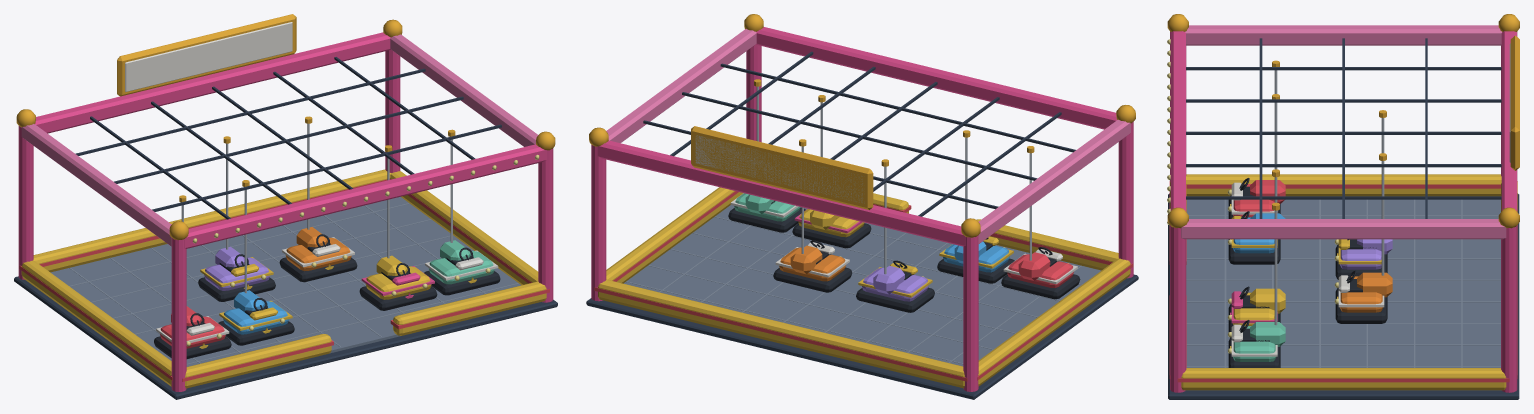
File: park-bumper.glb
3 renders of one model, left to right at view 1: azimuth 30°, elevation 25°; view 2: azimuth 150°, elevation 25°; view 3: azimuth 270°, elevation 25°, orthographic. The views are drawn at different scales.
Visible parts, largest first — view 1: pk_bumper_mesh, pk_bumper_car2_mesh, pk_bumper_car5_mesh, pk_bumper_car1_mesh, pk_bumper_car3_mesh, pk_bumper_car4_mesh, pk_bumper_car0_mesh; view 2: pk_bumper_mesh, pk_bumper_car4_mesh, pk_bumper_car0_mesh, pk_bumper_car5_mesh, pk_bumper_car1_mesh, pk_bumper_car2_mesh, pk_bumper_car3_mesh; view 3: pk_bumper_mesh, pk_bumper_car5_mesh, pk_bumper_car3_mesh, pk_bumper_car4_mesh, pk_bumper_car2_mesh, pk_bumper_car1_mesh, pk_bumper_car0_mesh.
Part boxes in pixels (box(x1,y1,x2,y2)): pk_bumper_mesh: box(14, 14, 557, 399); pk_bumper_car2_mesh: box(359, 145, 437, 310); pk_bumper_car5_mesh: box(279, 116, 357, 282); pk_bumper_car1_mesh: box(218, 180, 294, 345); pk_bumper_car3_mesh: box(424, 129, 500, 295); pk_bumper_car4_mesh: box(198, 136, 275, 301); pk_bumper_car0_mesh: box(154, 195, 231, 358); pk_bumper_mesh: box(586, 14, 1138, 399); pk_bumper_car4_mesh: box(856, 159, 934, 312); pk_bumper_car0_mesh: box(1001, 146, 1080, 299); pk_bumper_car5_mesh: box(773, 139, 852, 292); pk_bumper_car1_mesh: box(937, 130, 1014, 283); pk_bumper_car2_mesh: box(792, 95, 871, 248); pk_bumper_car3_mesh: box(728, 79, 805, 232); pk_bumper_mesh: box(1167, 14, 1519, 399); pk_bumper_car5_mesh: box(1334, 153, 1392, 323); pk_bumper_car3_mesh: box(1227, 202, 1285, 367); pk_bumper_car4_mesh: box(1334, 110, 1392, 279); pk_bumper_car2_mesh: box(1227, 169, 1285, 337); pk_bumper_car1_mesh: box(1227, 94, 1285, 264); pk_bumper_car0_mesh: box(1227, 60, 1285, 218).
Bounding box in the file's own units: 9.4 × 4.72 × 6.93.
